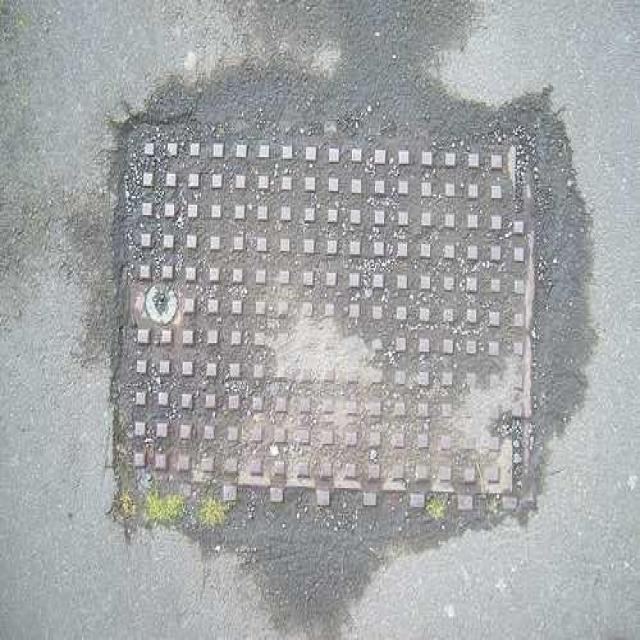manhole: (111, 145, 527, 531)
